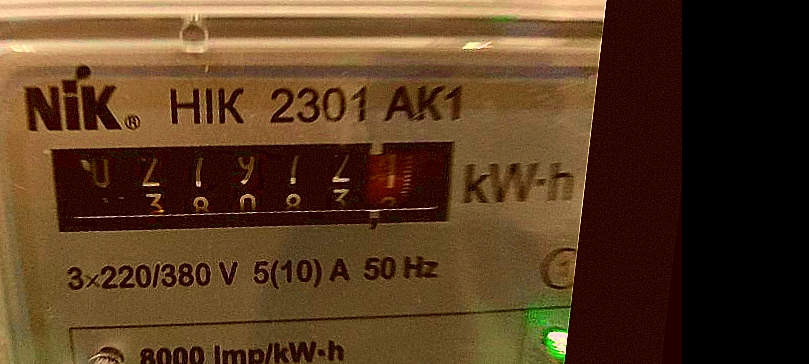0: (84, 151, 116, 190)
1: (378, 148, 405, 193)
2: (133, 147, 166, 189), (325, 145, 357, 185)
7: (277, 145, 308, 189), (183, 150, 210, 190)
9: (231, 149, 261, 186)
screen: (23, 84, 490, 289)
